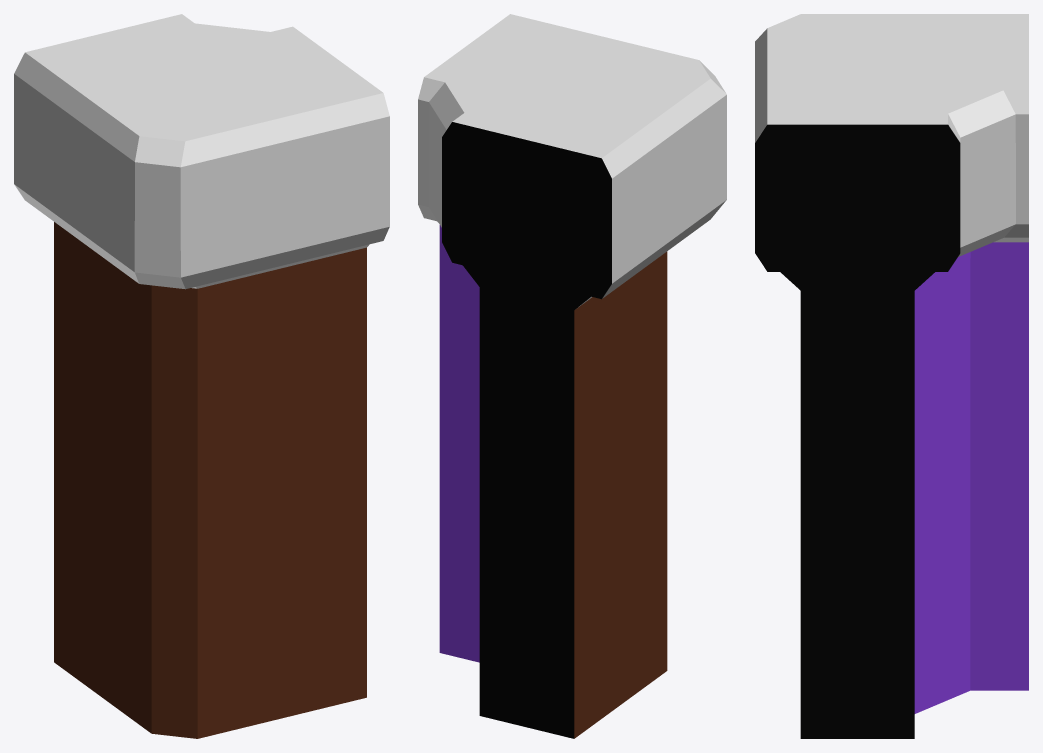
Rendered from Wall Corner.fbx.
3 views of the same model, side by side, from view 1: azimuth 30°, elevation 25°; view 2: azimuth 150°, elevation 25°; view 3: azimuth 270°, elevation 25° (orthographic). The views are drawn at different scales.
Visible parts, largest first — view 1: Wall Corner; view 2: Wall Corner; view 3: Wall Corner.
Boxes of the visible parts, x1,y1,x2,y2 form: Wall Corner: (14,14,389,738); Wall Corner: (418,14,726,738); Wall Corner: (755,14,1028,738).
Size of the model in its own units: 80 by 198 by 80.
